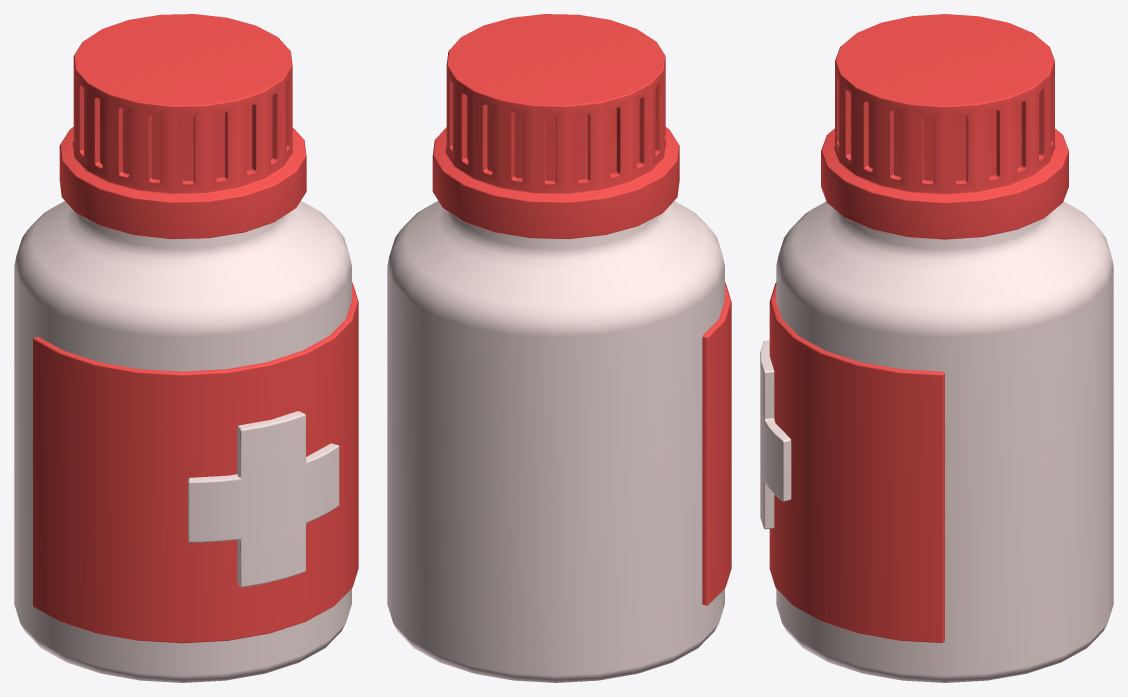
File: Store_15_Bottle_of_Medicine_3.glb
3 views of the same model, side by side, from view 1: azimuth 30°, elevation 25°; view 2: azimuth 150°, elevation 25°; view 3: azimuth 270°, elevation 25° (orthographic).
Visible parts, largest first — view 1: Store_15_Bottle_of_Medicine_3; view 2: Store_15_Bottle_of_Medicine_3; view 3: Store_15_Bottle_of_Medicine_3.
Part boxes in pixels (x1,y1,x2,y2): Store_15_Bottle_of_Medicine_3: (14, 14, 358, 682); Store_15_Bottle_of_Medicine_3: (387, 14, 731, 682); Store_15_Bottle_of_Medicine_3: (760, 14, 1113, 682).
Size of the model in its own units: 1.44 by 2.54 by 1.46.
Materials: 1 (1 with a texture image).
